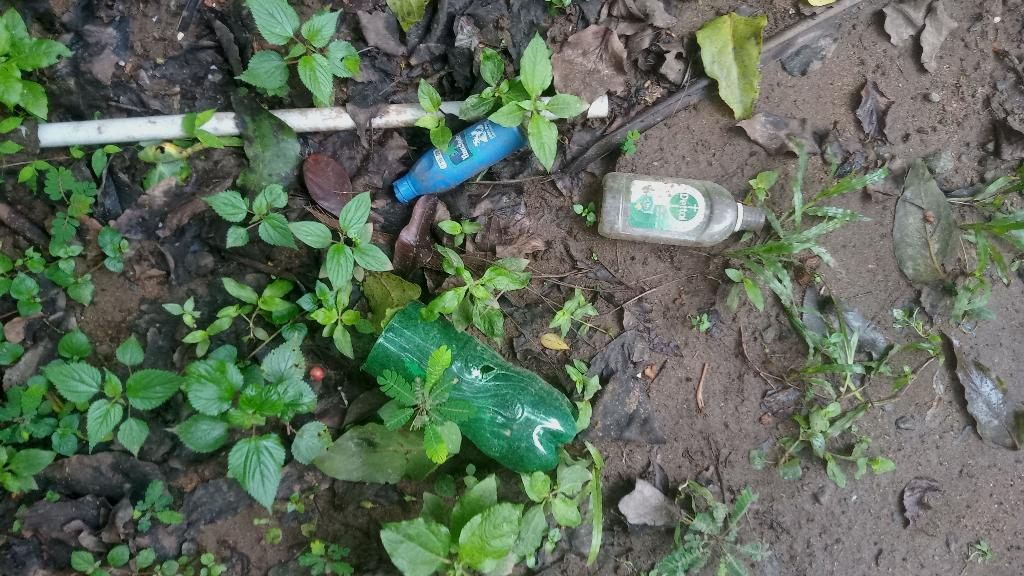garbage: (353, 298, 585, 475), (591, 166, 775, 258), (376, 122, 544, 195)
